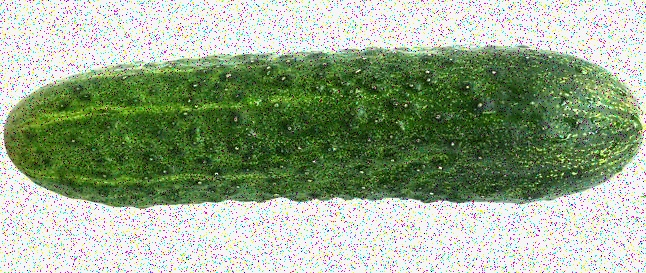cucumber: (5, 43, 645, 206)
